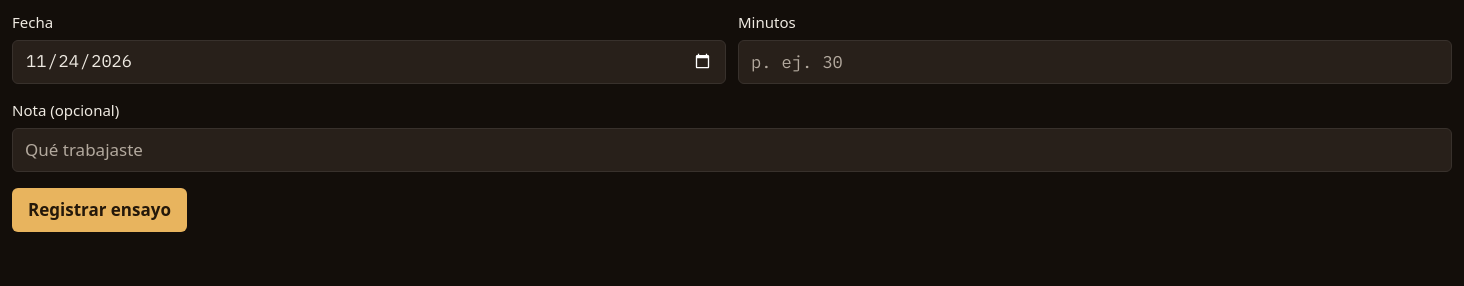
Scenario: RehearsalForm › muestra el error del servidor sin perder lo escrito
In the number field labelled "Minutos": {"x": 1095, "y": 62} [738, 40, 1452, 84], type "45"
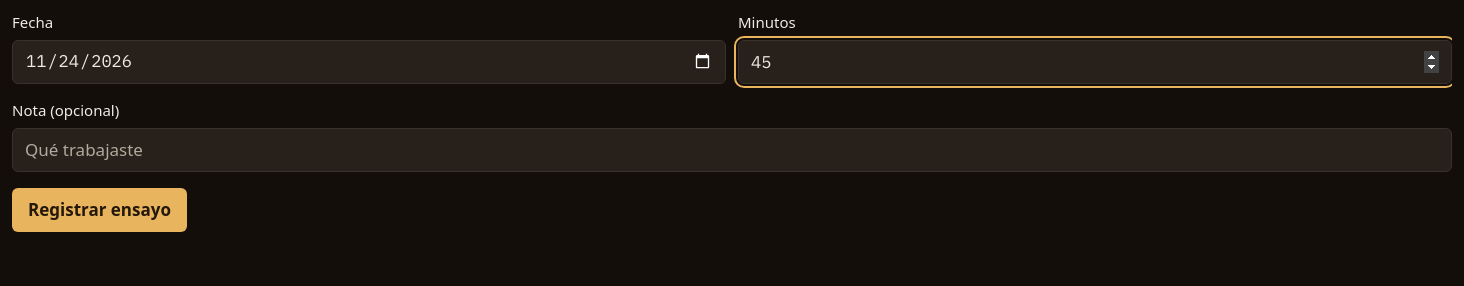
Click the button "Registrar ensayo": {"x": 100, "y": 210} [12, 188, 187, 232]
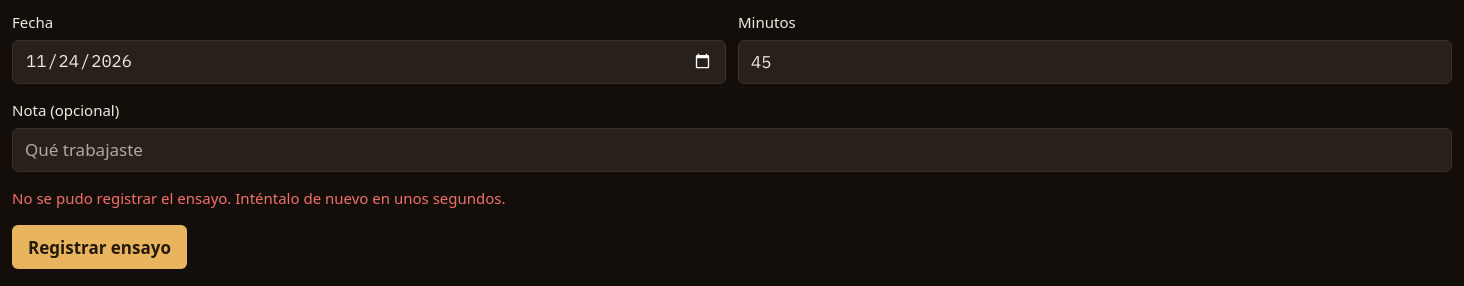
Check: the message shows "No se pudo registrar el ensayo", box [12, 188, 506, 208]
